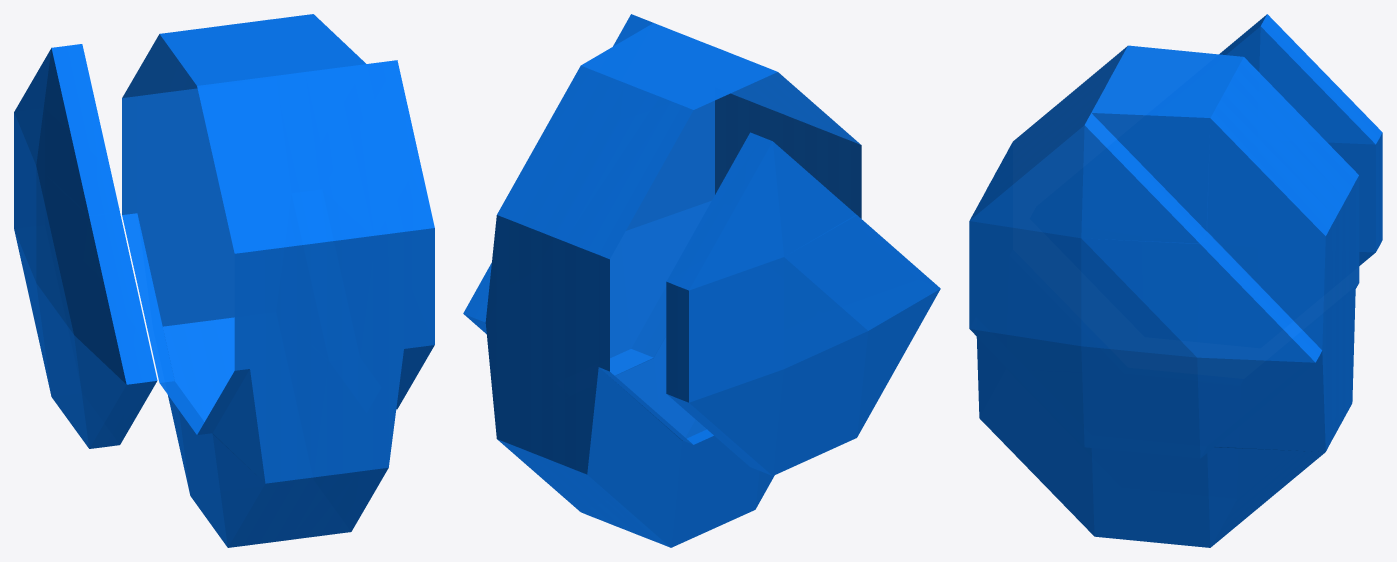
The model's file is SVV_Fragment16.gltf.
3 renders of one model, left to right at view 1: azimuth 30°, elevation 25°; view 2: azimuth 150°, elevation 25°; view 3: azimuth 270°, elevation 25°, orthographic. The views are drawn at different scales.
Visible parts, largest first — view 1: Fragment16; view 2: Fragment16; view 3: Fragment16.
Part boxes in pixels (box(x1,y1,x2,y2)): Fragment16: box(14, 14, 434, 547); Fragment16: box(463, 14, 940, 547); Fragment16: box(969, 14, 1382, 547).
Size of the model in its own units: 2050 by 2631 by 2291.
